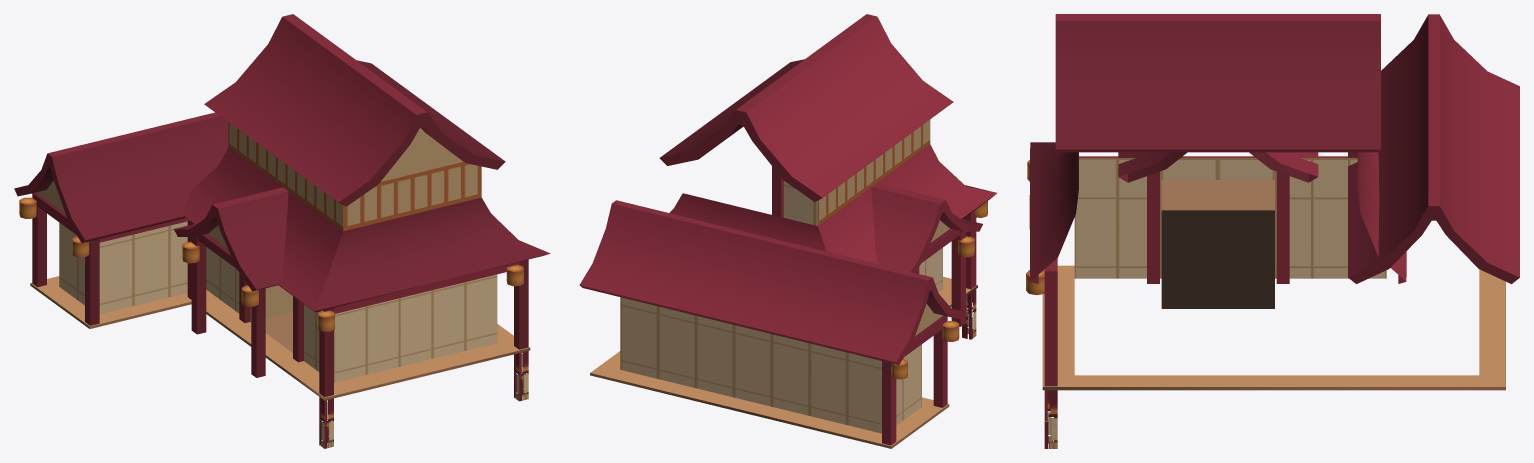
Rendered from dojo_MESH_v2.fbx.
3 views of the same model, side by side, from view 1: azimuth 30°, elevation 25°; view 2: azimuth 150°, elevation 25°; view 3: azimuth 270°, elevation 25° (orthographic). The views are drawn at different scales.
Parts seen in each view (by area): view 1: dojo_MESH; view 2: dojo_MESH; view 3: dojo_MESH.
Boxes of the visible parts, bbox=[...] form: dojo_MESH: bbox=[14, 14, 550, 448]; dojo_MESH: bbox=[579, 14, 996, 448]; dojo_MESH: bbox=[1026, 14, 1519, 448].
Bounding box in the file's own units: 655 × 570 × 687.
